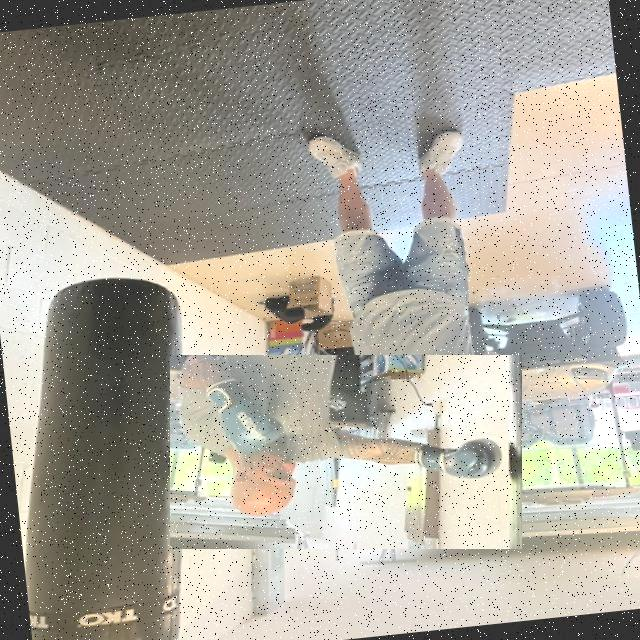punch: (170, 355, 522, 549)
